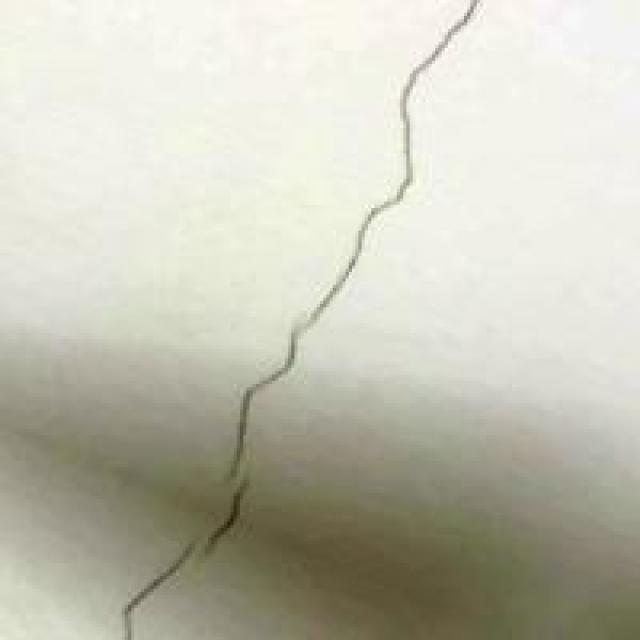Crack: (90, 0, 484, 637)
